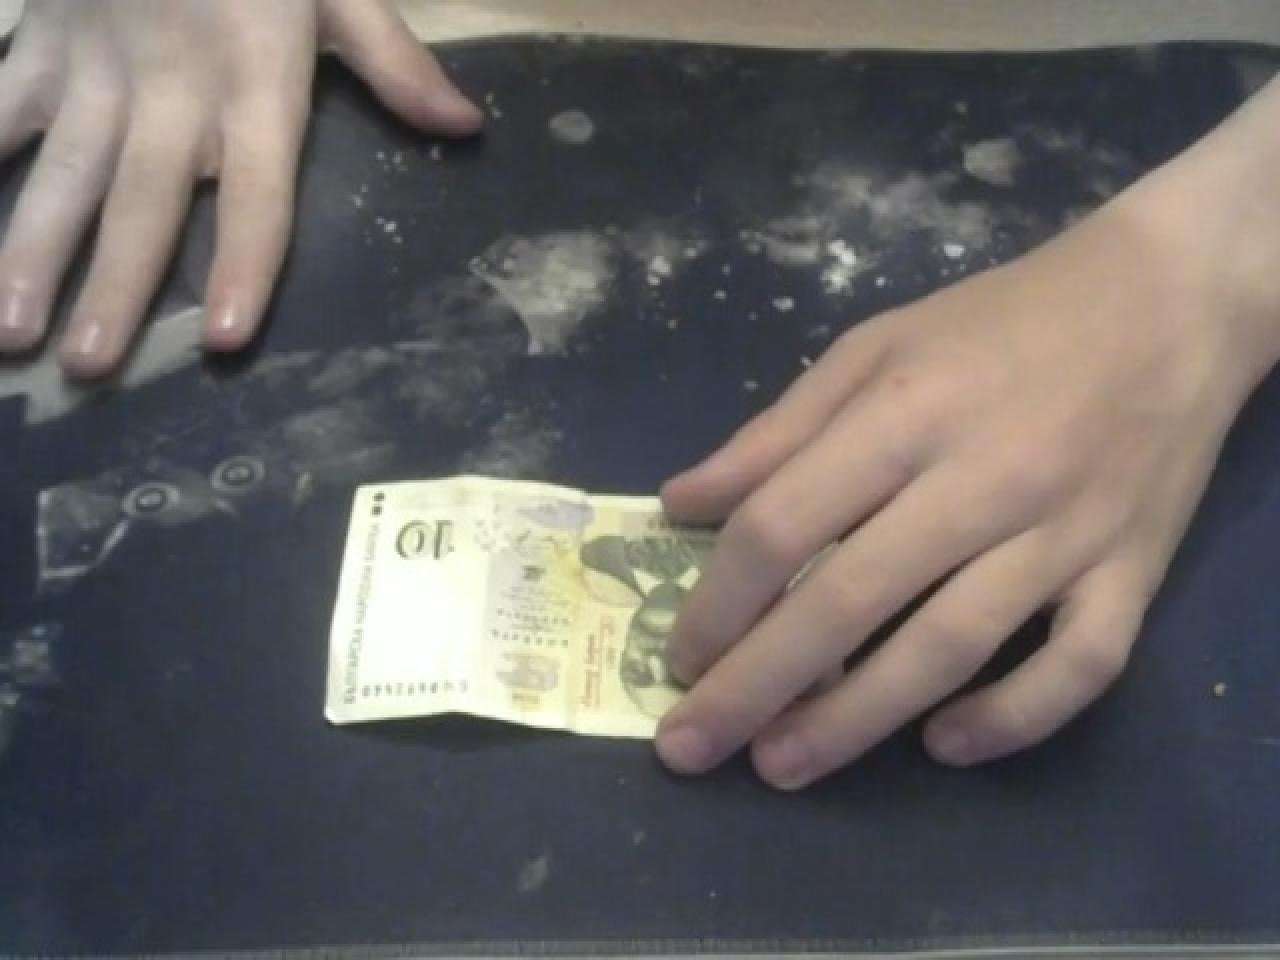10leva: (380, 498, 472, 589)
